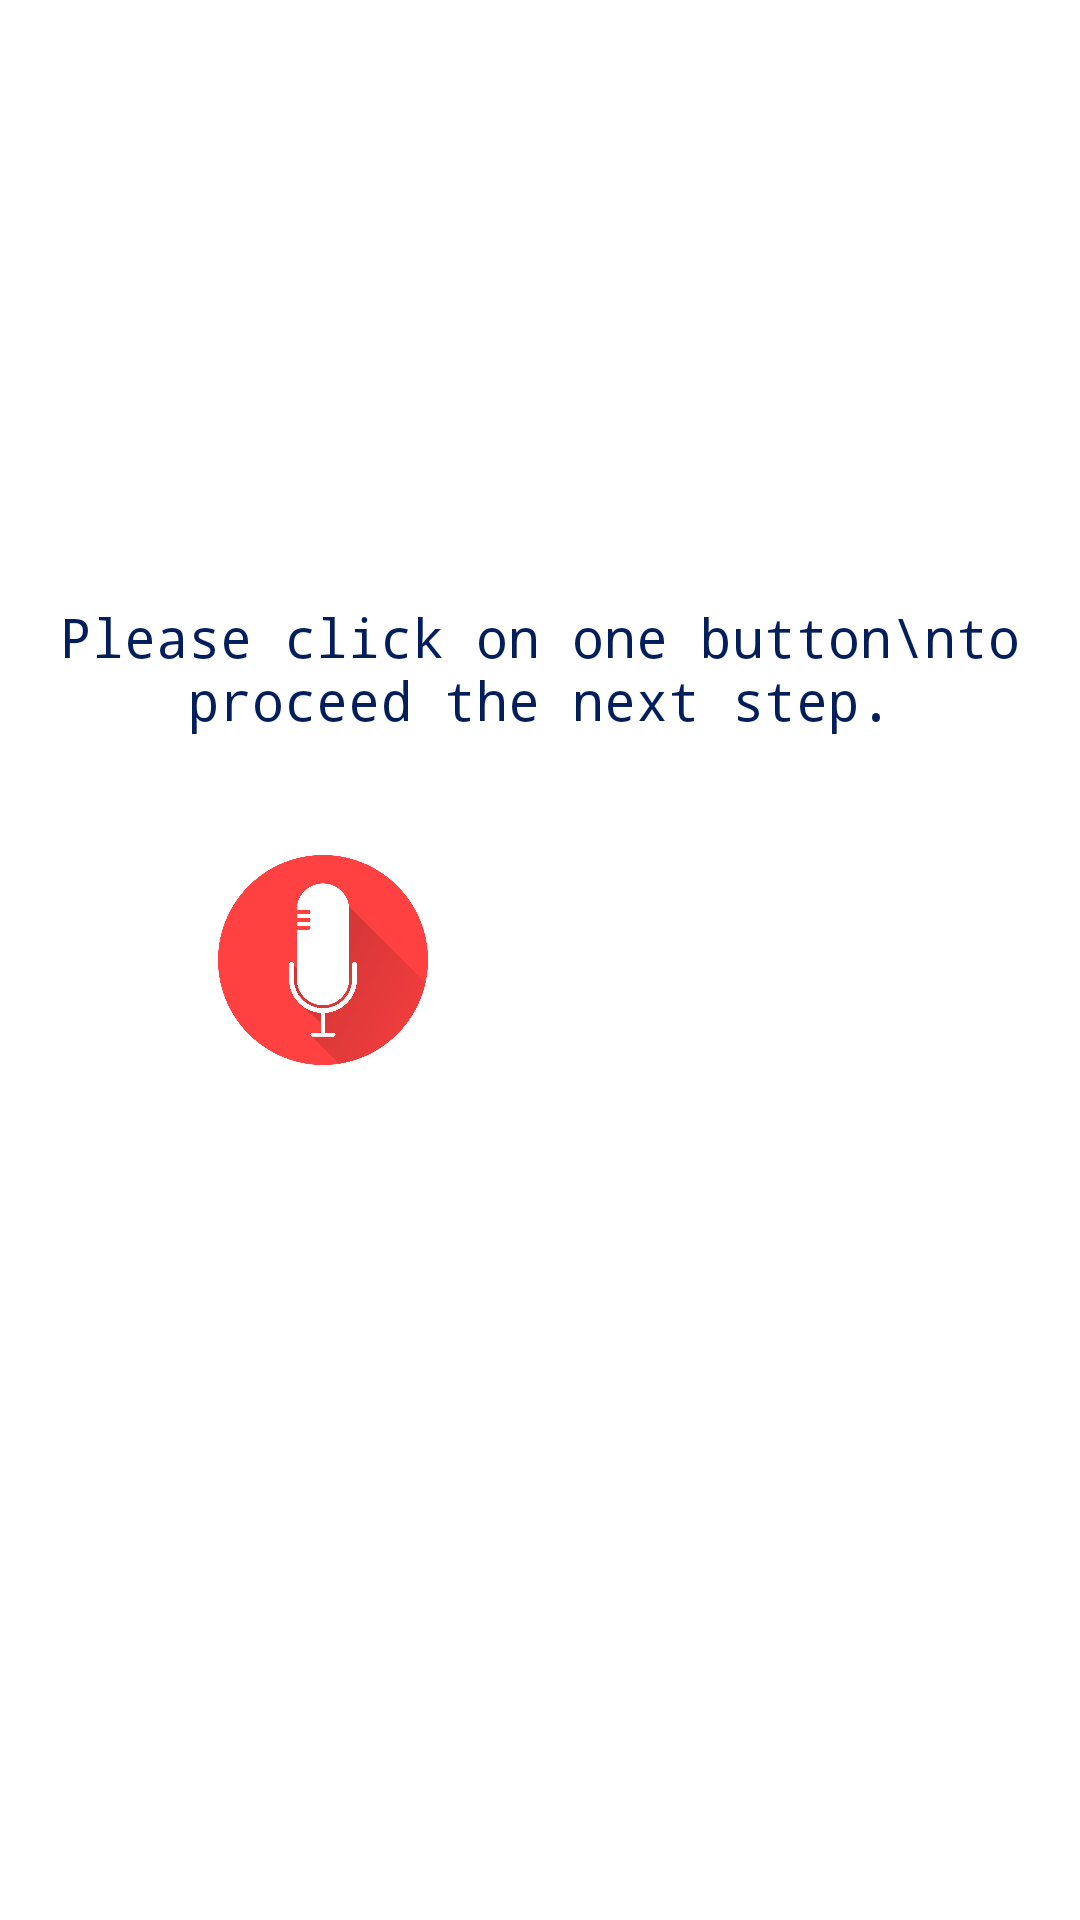

Where to tap for icons on this 1080*1920 app screen, as [x,y]:
mic: [323,960]
